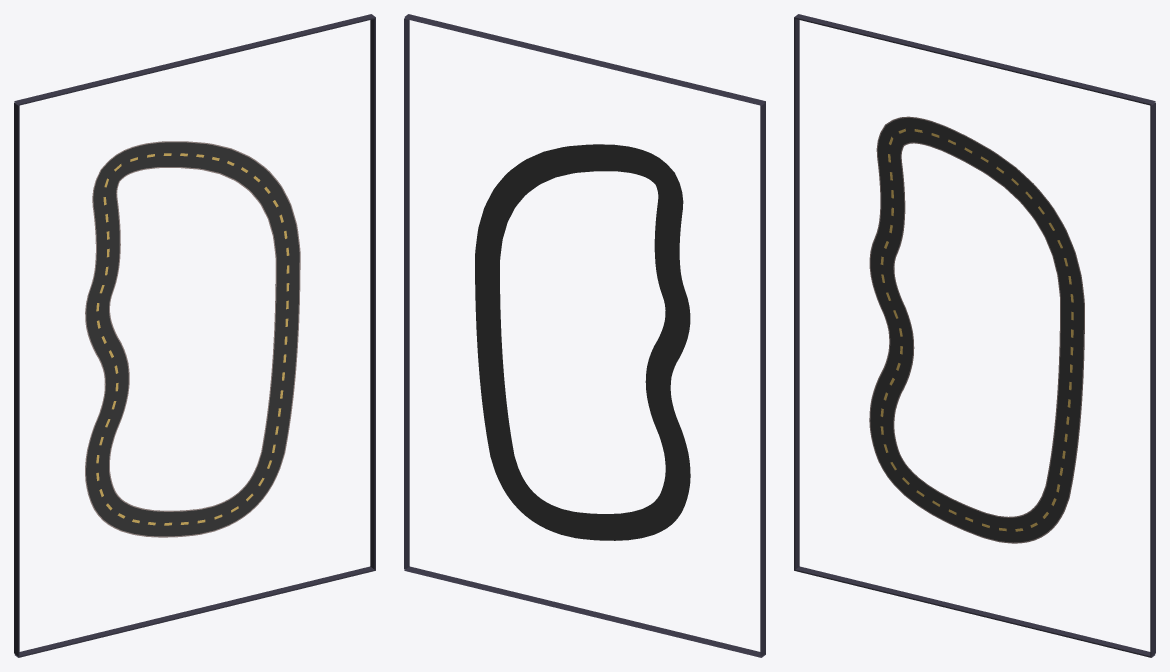
File: track.obj
The picture shows the model from 3 angles, left to right: view 1: azimuth 30°, elevation 25°; view 2: azimuth 150°, elevation 25°; view 3: azimuth 330°, elevation 25°; orthographic projection.
Size of the model in its own units: 13.77 by 20.37 by 0.3.
4 materials, 4 textured.
